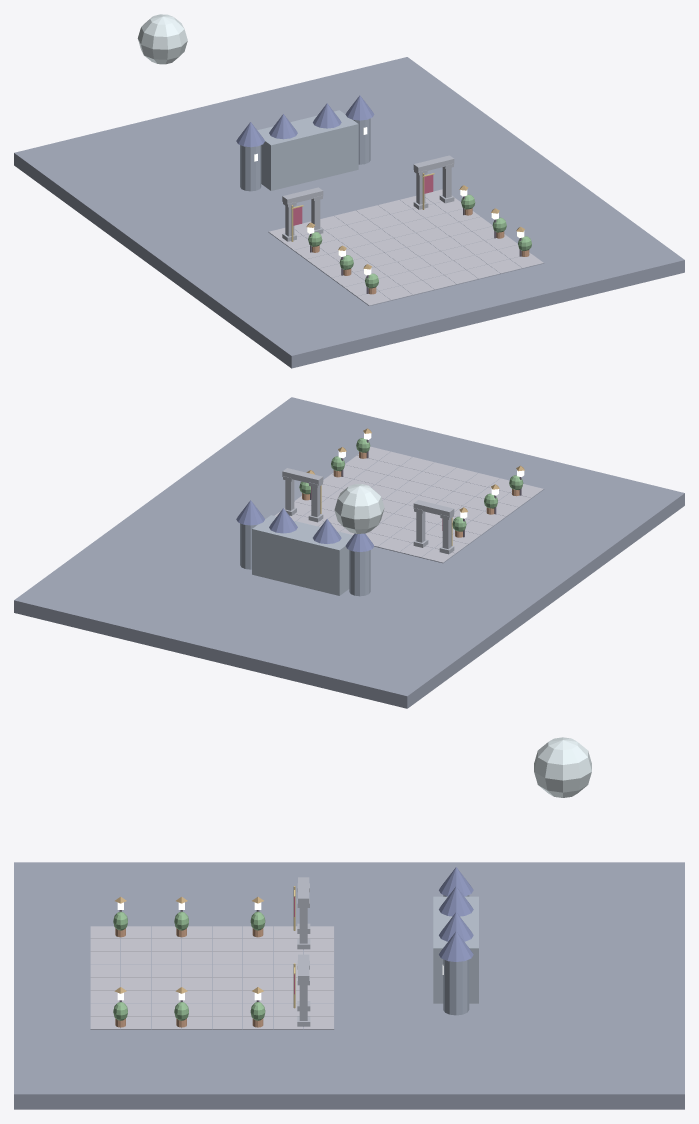
The model's file is 06_Castle.glb.
3 renders of one model, top to bottom at view 1: azimuth 30°, elevation 25°; view 2: azimuth 150°, elevation 25°; view 3: azimuth 270°, elevation 25°, orthographic. The views are drawn at different scales.
Visible parts, largest first — view 1: courtyard_surroundings, castle_keep, Moon, tower (×2), Arena_Base; view 2: courtyard_surroundings, castle_keep, Moon, tower (×2), Arena_Base; view 3: courtyard_surroundings, Moon, castle_keep, tower, Arena_Base, roof (×2).
Boxes of the visible parts, box(x1,y1,x2,y2) form: courtyard_surroundings: box(14, 57, 684, 368); castle_keep: box(257, 110, 358, 190); Moon: box(137, 14, 187, 64); tower (×2): box(240, 118, 370, 191); Arena_Base: box(268, 197, 544, 305); courtyard_surroundings: box(14, 397, 684, 708); castle_keep: box(252, 515, 352, 595); Moon: box(334, 484, 384, 533); tower (×2): box(240, 523, 370, 596); Arena_Base: box(294, 452, 544, 563); courtyard_surroundings: box(14, 862, 684, 1109); Moon: box(534, 737, 591, 797); castle_keep: box(433, 896, 478, 1003); tower: box(443, 959, 469, 1015); Arena_Base: box(90, 926, 334, 1029); roof (×2): box(439, 886, 473, 961).
Size of the model in its own units: 36 by 14.15 by 44.
